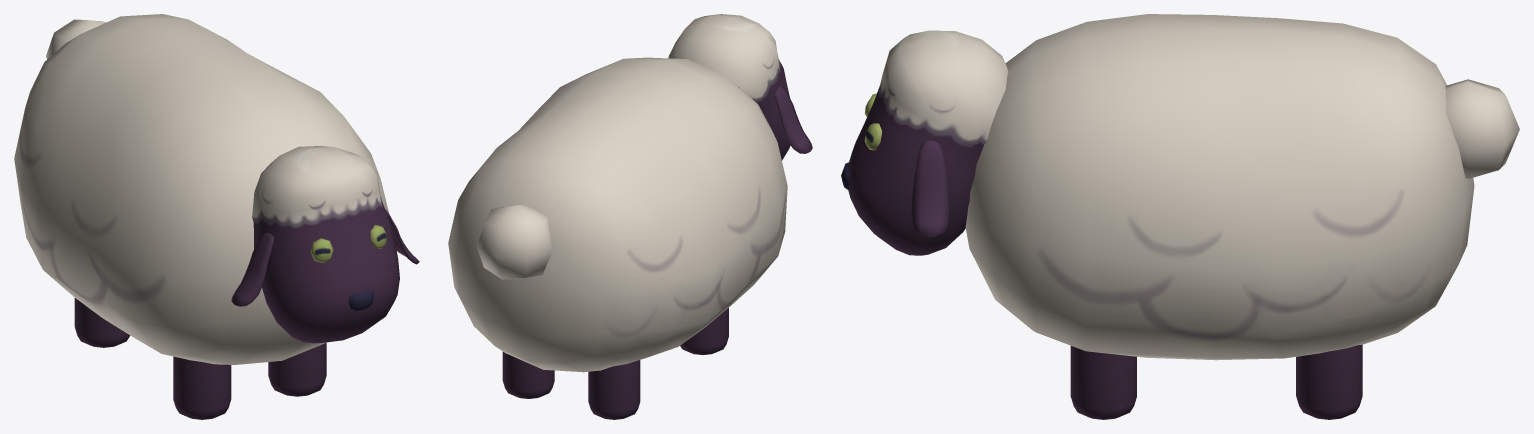
Rendered from Schaf.fbx.
3 views of the same model, side by side, from view 1: azimuth 30°, elevation 25°; view 2: azimuth 150°, elevation 25°; view 3: azimuth 270°, elevation 25° (orthographic). The views are drawn at different scales.
Visible parts, largest first — view 1: Cube; view 2: Cube; view 3: Cube.
Boxes of the visible parts, x1,y1,x2,y2 form: Cube: (14,14,419,419); Cube: (448,14,812,419); Cube: (841,14,1519,419).
Bounding box in the file's own units: 70.29 × 77.4 × 134.
